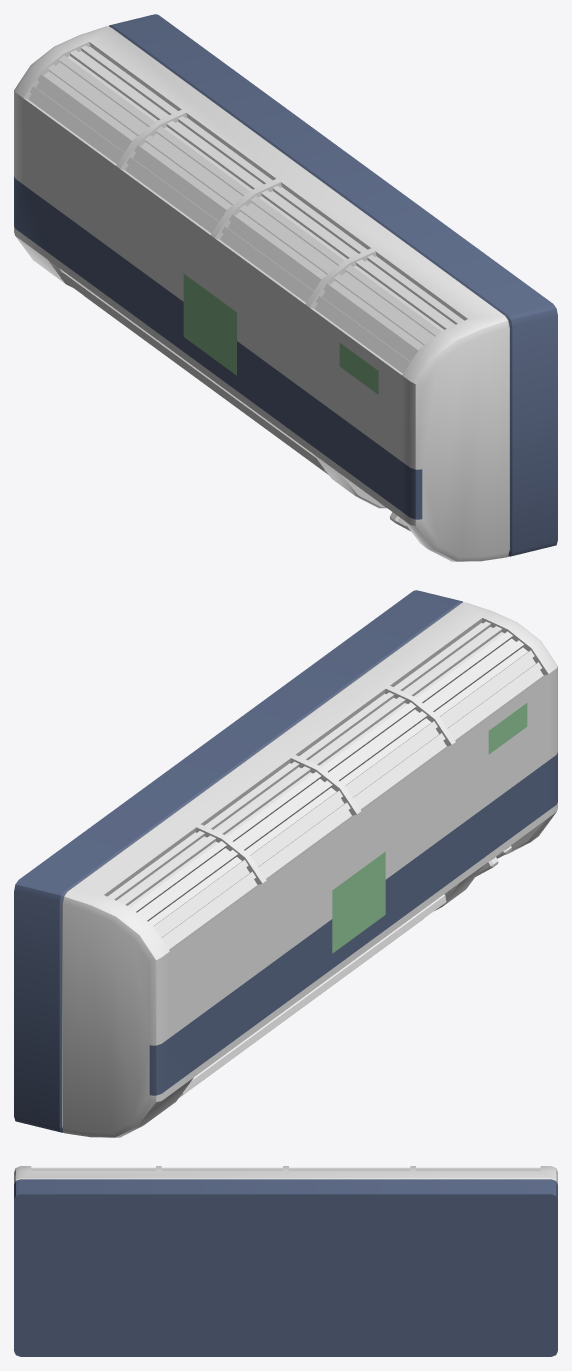
3 views of the same model, one above another, from view 1: azimuth 30°, elevation 25°; view 2: azimuth 150°, elevation 25°; view 3: azimuth 270°, elevation 25° (orthographic). The views are drawn at different scales.
Visible parts, largest first — view 1: Hs221; view 2: Hs221; view 3: Hs221.
Boxes of the visible parts, <box> form: Hs221: <box>14,14,557,561</box>; Hs221: <box>14,590,557,1137</box>; Hs221: <box>14,1166,557,1356</box>.
Size of the model in its own units: 17.69 by 86 by 28.34.
